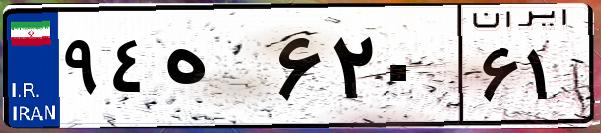0: (385, 28, 445, 110)
1: (525, 38, 570, 115)
2: (330, 28, 385, 110)
4: (110, 28, 158, 98)
6: (270, 28, 330, 110), (475, 38, 525, 113)
9: (57, 26, 110, 100)
ه: (158, 20, 270, 120)
